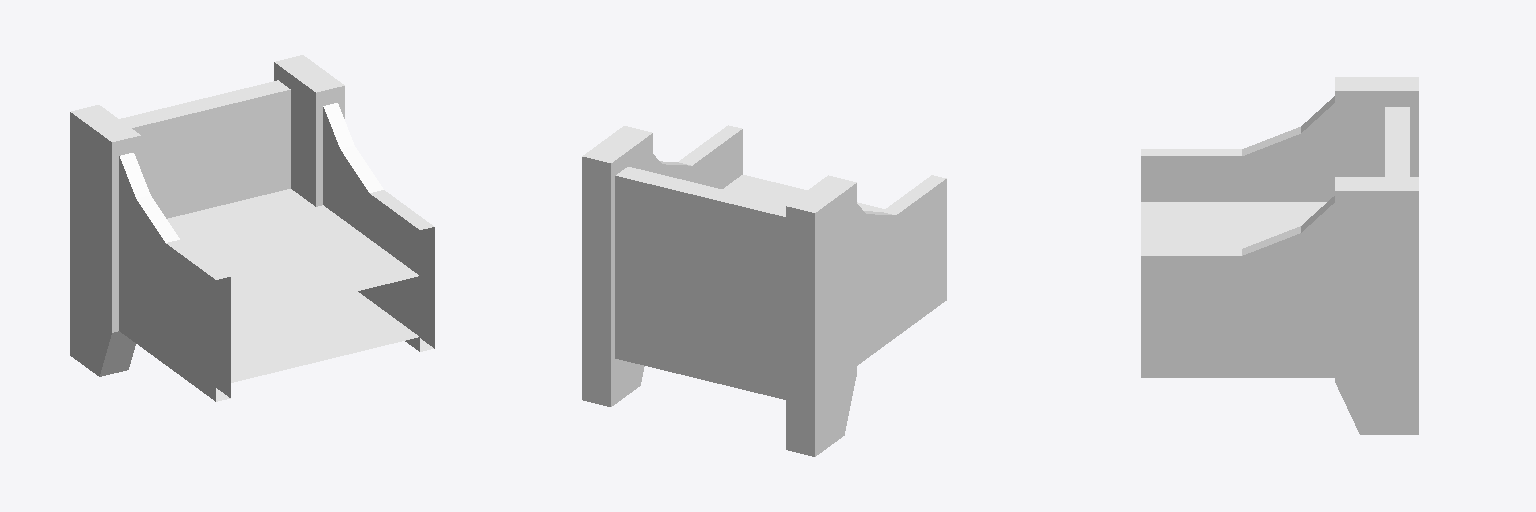
The model's file is nordic_bed_foot.obj.
3 renders of one model, left to right at view 1: azimuth 30°, elevation 25°; view 2: azimuth 150°, elevation 25°; view 3: azimuth 270°, elevation 25°, orthographic.
Visible parts, largest first — view 1: bed_foot, foot_side_left, foot_board, foot_leg_right, foot_side_right, foot_leg_left; view 2: foot_board, foot_leg_right, foot_side_left, foot_leg_left, foot_side_right, bed_foot; view 3: foot_side_right, foot_leg_left, foot_side_left, bed_foot, foot_leg_right, foot_board.
Part boxes in pixels (bbox=[...]): bed_foot: bbox=[167, 189, 418, 382]; foot_side_left: bbox=[119, 153, 230, 401]; foot_board: bbox=[120, 80, 290, 218]; foot_leg_right: bbox=[70, 105, 140, 376]; foot_side_right: bbox=[323, 103, 434, 351]; foot_leg_left: bbox=[274, 55, 344, 206]; foot_board: bbox=[615, 167, 786, 399]; foot_leg_right: bbox=[786, 175, 856, 456]; foot_side_left: bbox=[857, 175, 946, 365]; foot_leg_left: bbox=[582, 126, 652, 406]; foot_side_right: bbox=[653, 125, 742, 188]; bed_foot: bbox=[723, 175, 884, 211]; foot_side_right: bbox=[1141, 196, 1334, 377]; foot_leg_left: bbox=[1335, 177, 1418, 434]; foot_side_left: bbox=[1141, 96, 1334, 201]; bed_foot: bbox=[1141, 202, 1326, 248]; foot_leg_right: bbox=[1335, 77, 1418, 176]; foot_board: bbox=[1385, 107, 1409, 176].
Size of the model in its own units: 1 by 1 by 1.03.